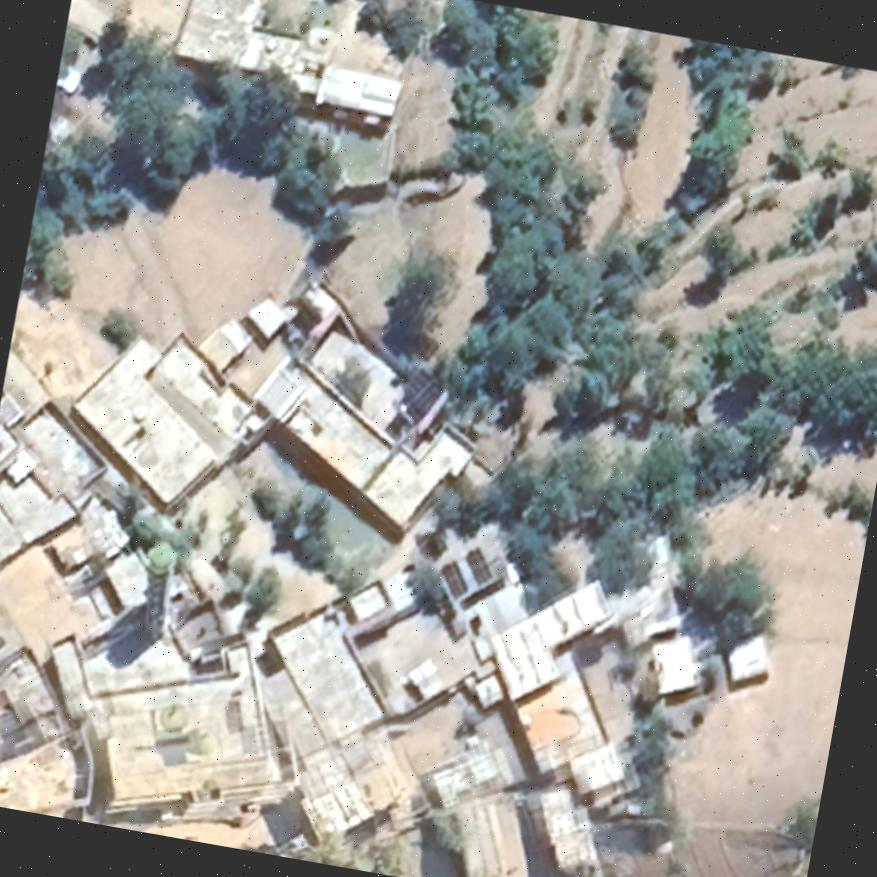Solarpanel: (437, 557, 470, 599), (462, 544, 494, 585)
